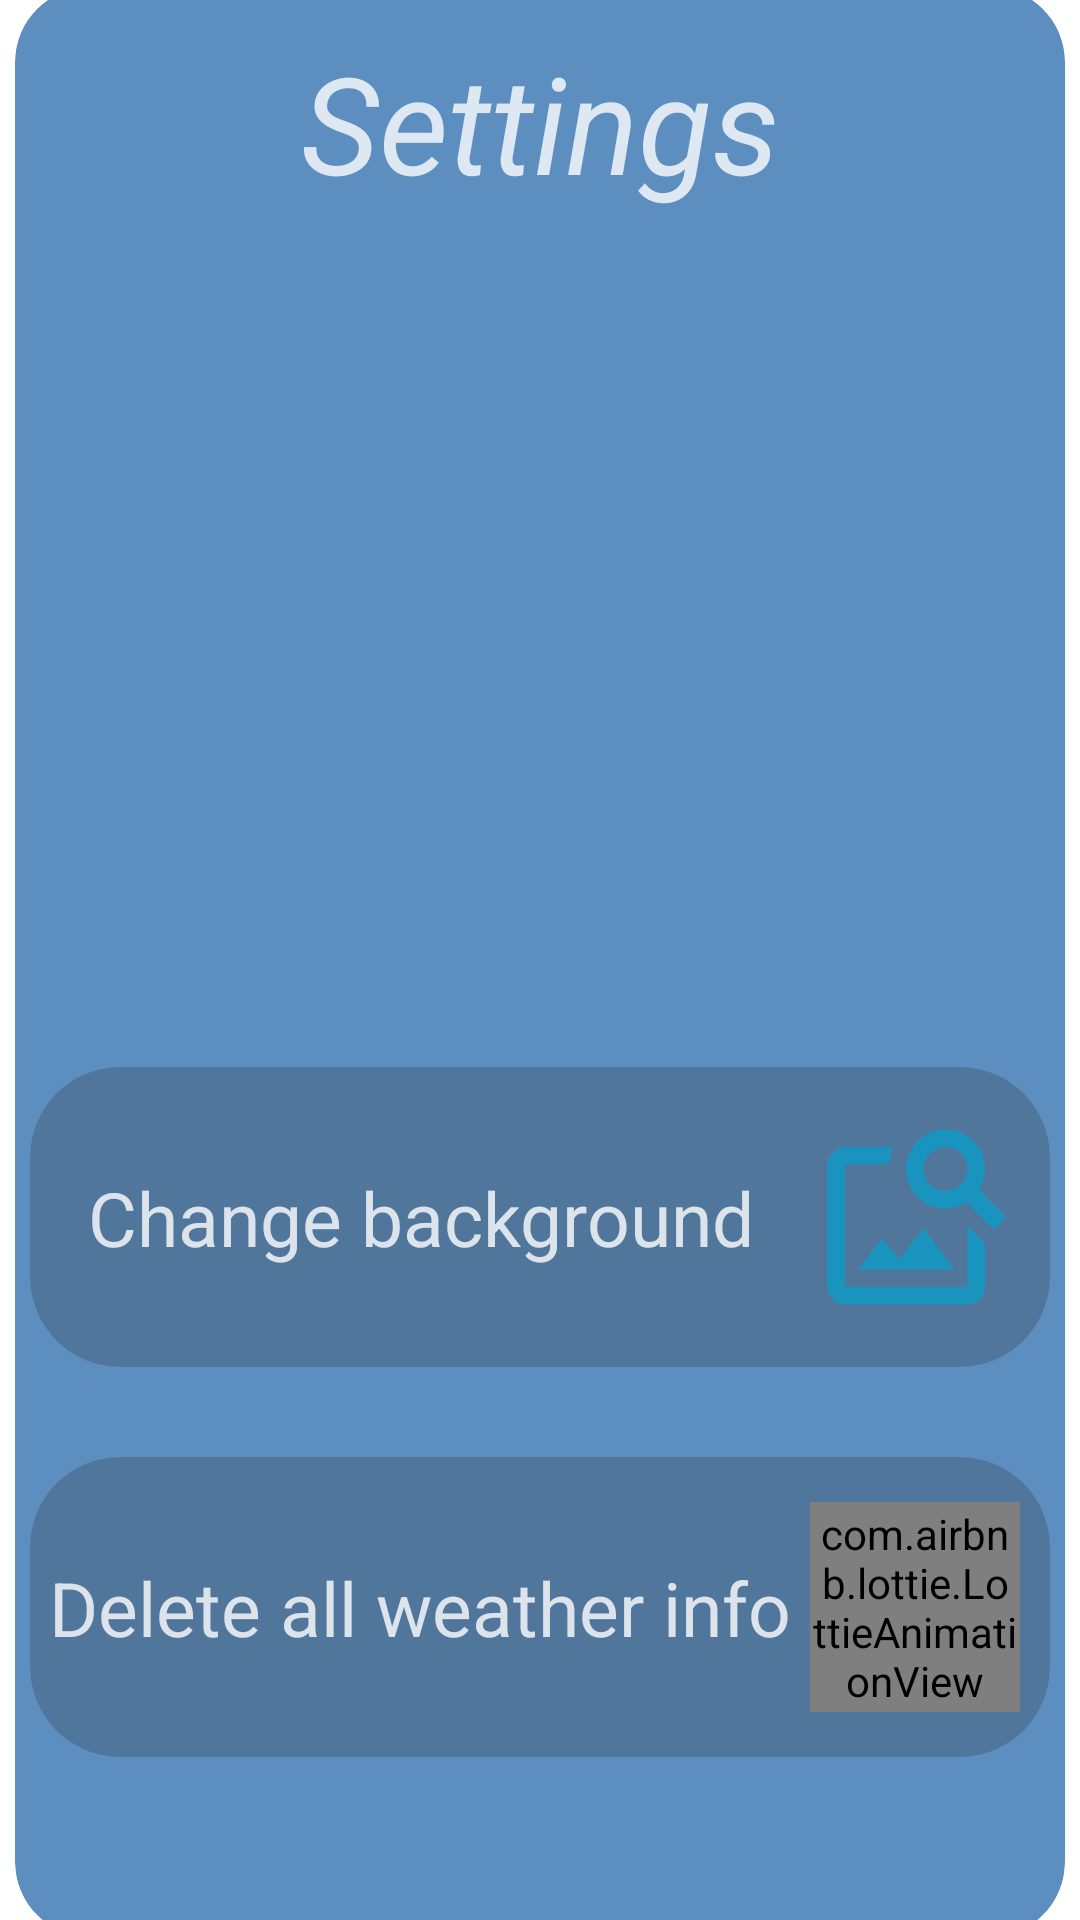

Icon bounding boxes for this 1080w x 1920h phone screenshot, format (x1, y1, x2, y2):
search: (827, 1129, 1006, 1305)
